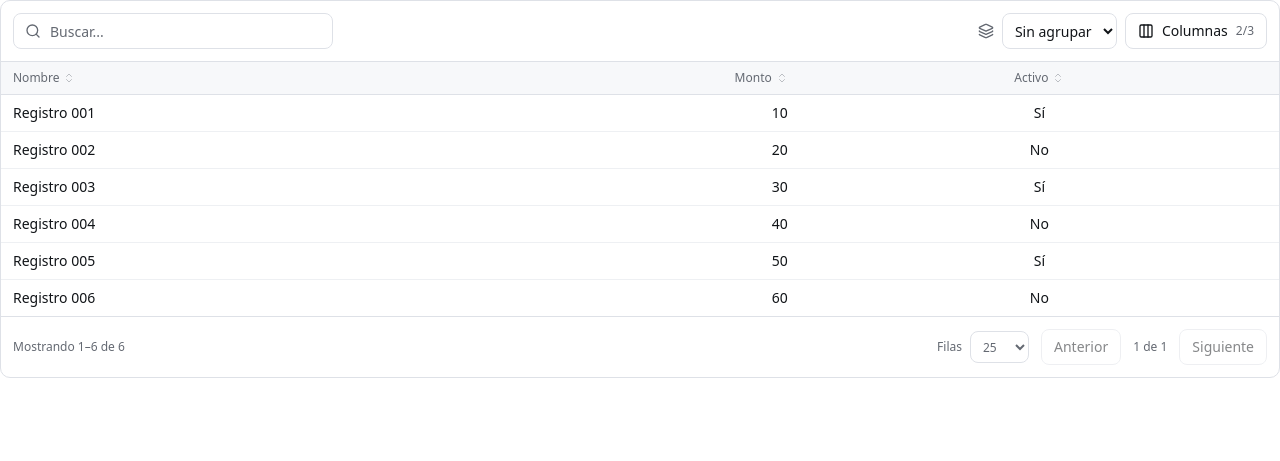
it: agrupaciones › vuelve a desplegar un grupo plegado
This screenshot has width=1280, height=461.
Select "Activo" in the dropdown named "Agrupar por" at (1059, 31), box [1002, 13, 1117, 49]
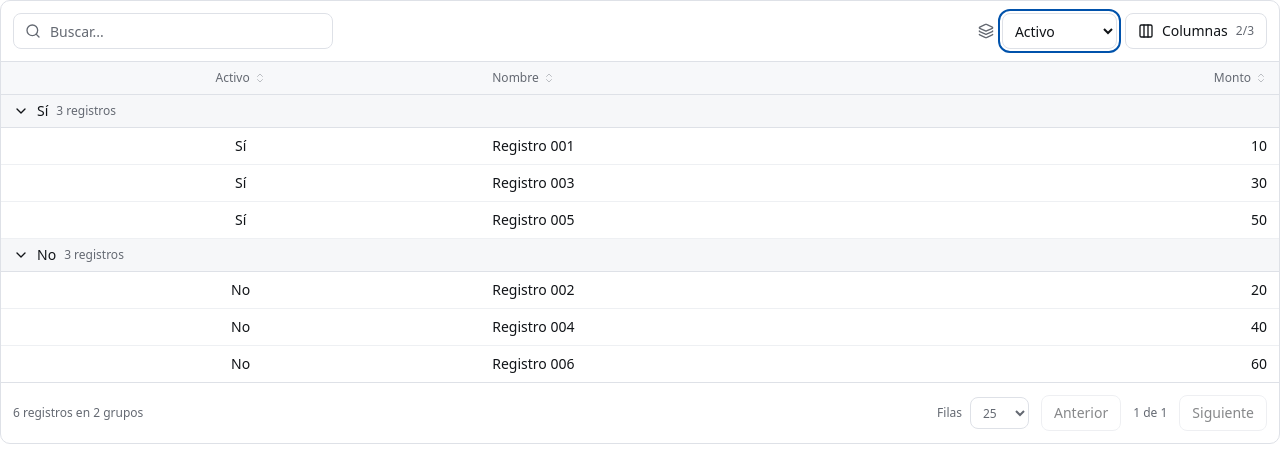
Click the button with aria-label "Grupo Sí" at (65, 111), box [13, 101, 116, 121]
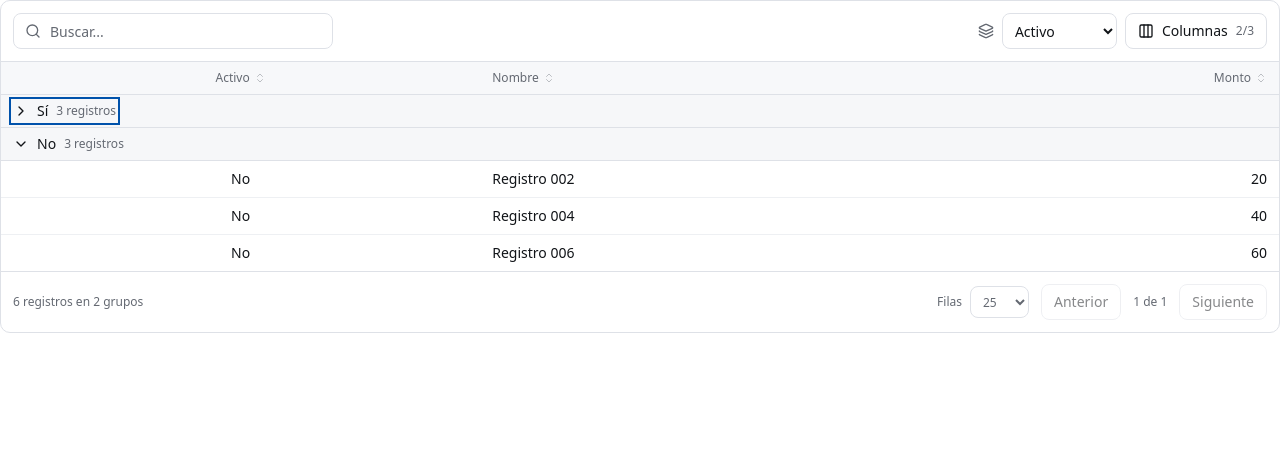
Click the button with aria-label "Grupo Sí" at (65, 111), box [13, 101, 116, 121]
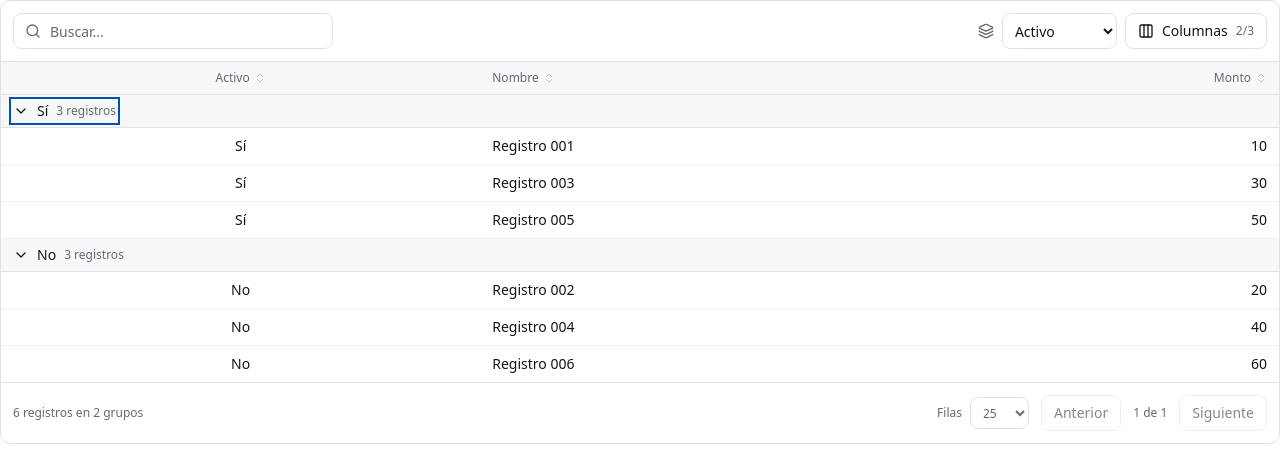
Expected: the text "Registro 001" is shown, [480, 128, 960, 164]
